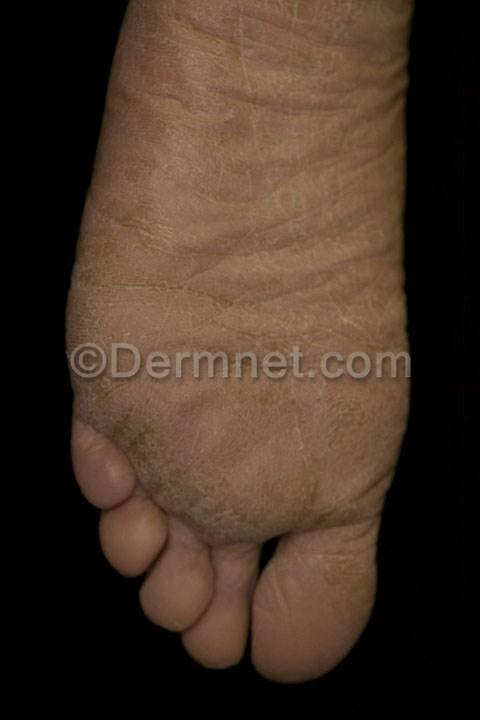xerosis 2: (58, 0, 410, 657)
